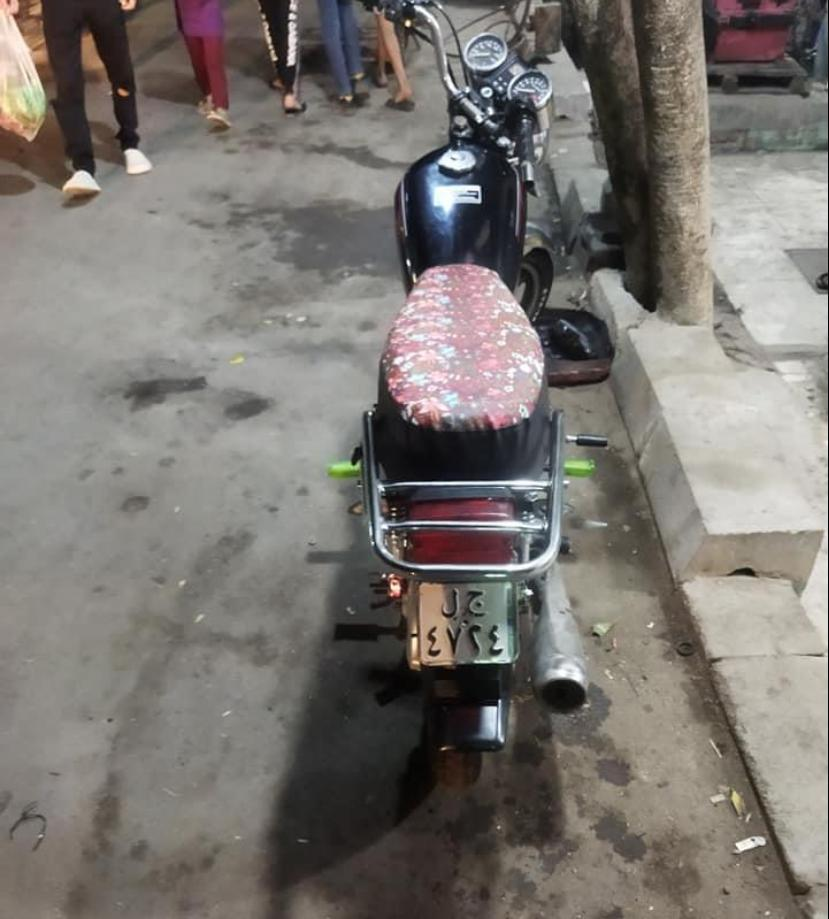License Plate: (412, 570, 519, 668)
